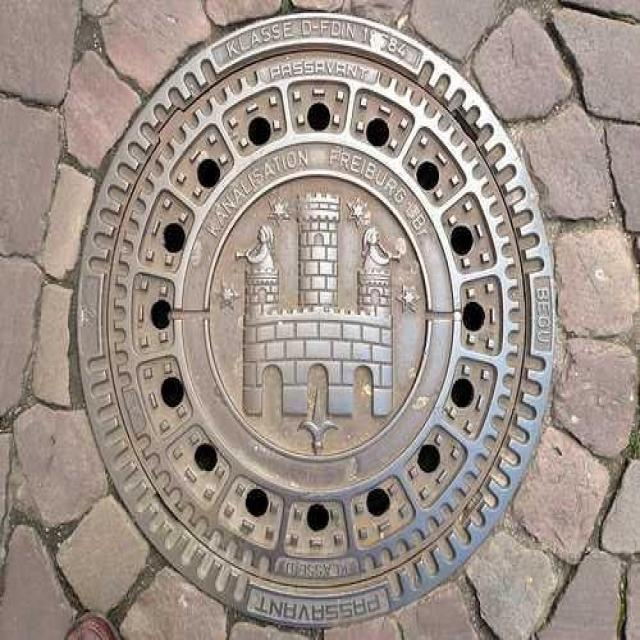manhole: (70, 11, 557, 638)
